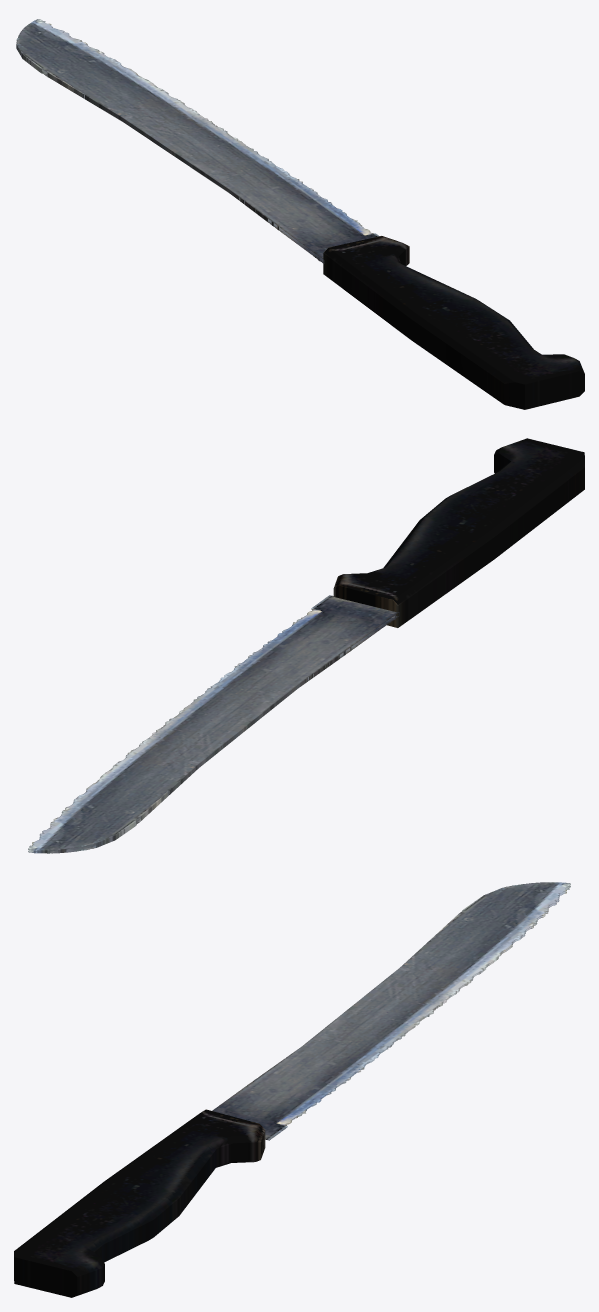
Rendered from knife-5.FBX.
3 renders of one model, top to bottom at view 1: azimuth 30°, elevation 25°; view 2: azimuth 150°, elevation 25°; view 3: azimuth 330°, elevation 25°, orthographic. The views are drawn at different scales.
Parts seen in each view (by area): view 1: Line01; view 2: Line01; view 3: Line01.
Part boxes in pixels (left/top/right/bottom): Line01: left=16, top=19, right=584, bottom=409; Line01: left=28, top=438, right=584, bottom=853; Line01: left=14, top=882, right=570, bottom=1297.
Bounding box in the file's own units: 1.96 × 0.4844 × 17.71.
